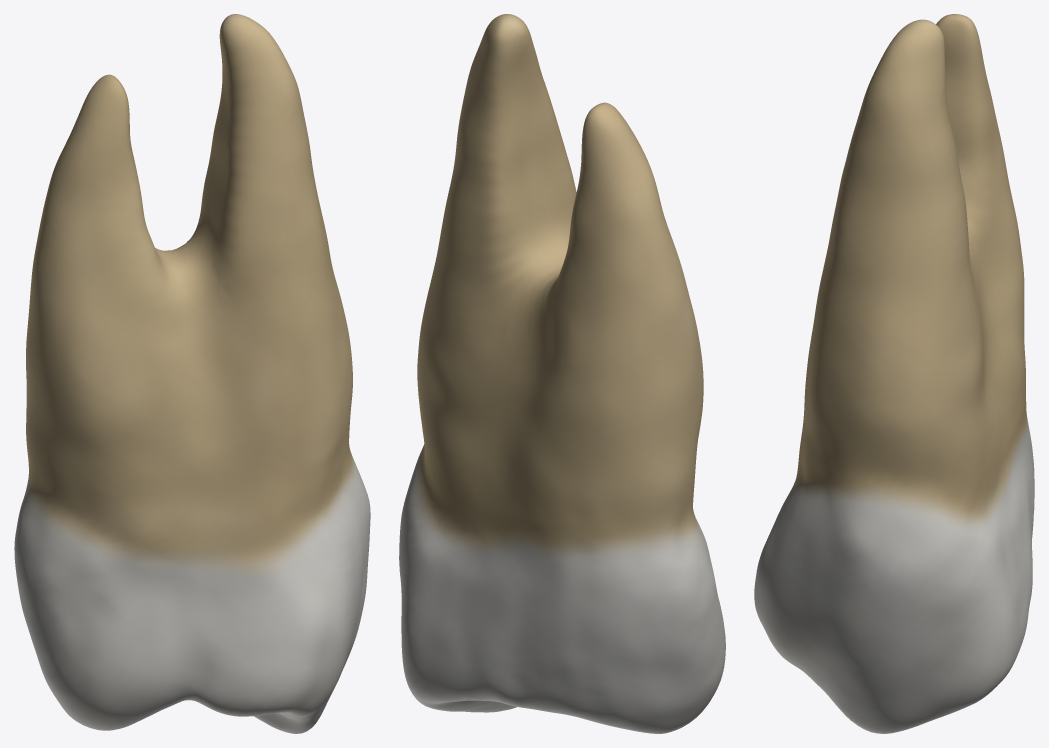
Rendered from maxillary_first_premolar.glb.
The picture shows the model from 3 angles, left to right: view 1: azimuth 30°, elevation 25°; view 2: azimuth 150°, elevation 25°; view 3: azimuth 270°, elevation 25°; orthographic projection. The views are drawn at different scales.
Parts seen in each view (by area): view 1: Object_3; view 2: Object_3; view 3: Object_3.
Part boxes in pixels (x1,y1,x2,y2): Object_3: (14, 14, 370, 733); Object_3: (399, 14, 725, 733); Object_3: (754, 14, 1034, 733).
Size of the model in its own units: 0.3954 by 0.8624 by 0.316.
Materials: 1 (1 with a texture image).
